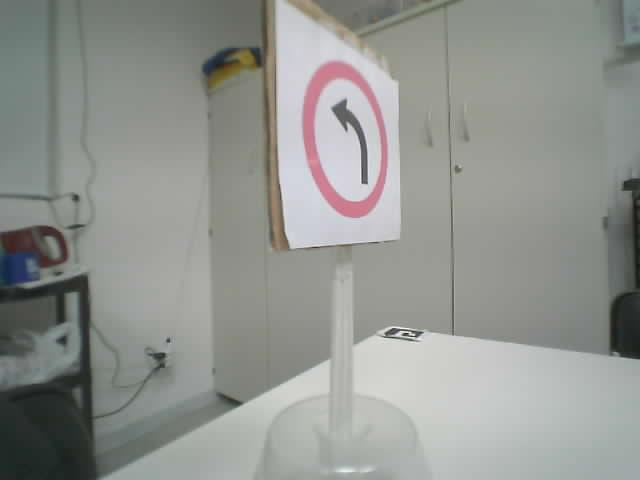R-25a_esquerda: (301, 59, 388, 218)
